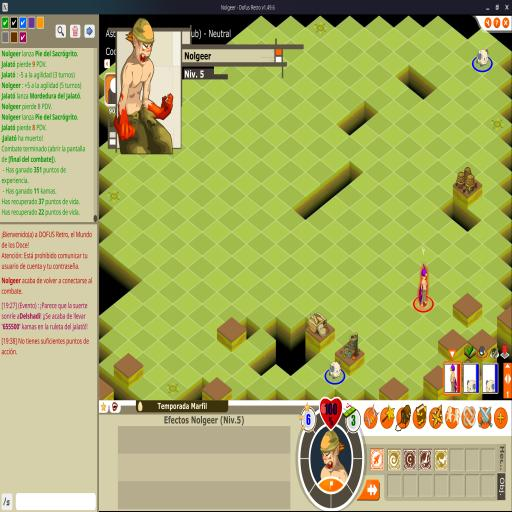Enemigos: (472, 48, 493, 72), (324, 362, 346, 384)
Personaje: (413, 263, 434, 313)
